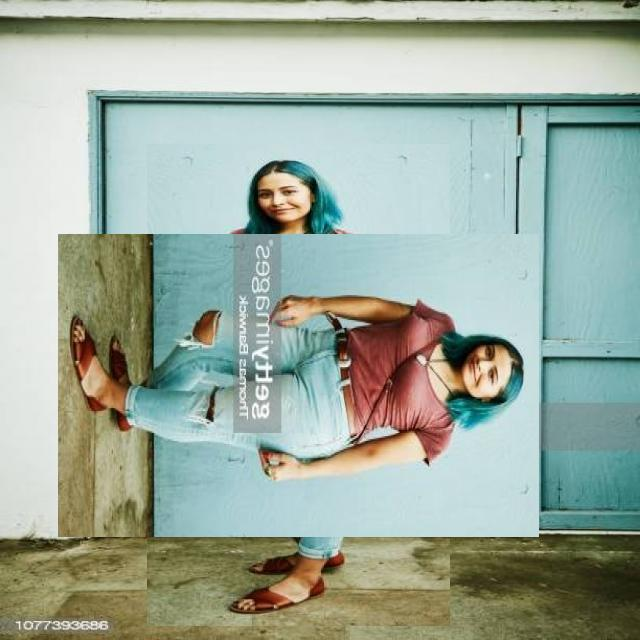NotFall: (35, 218, 559, 545)
